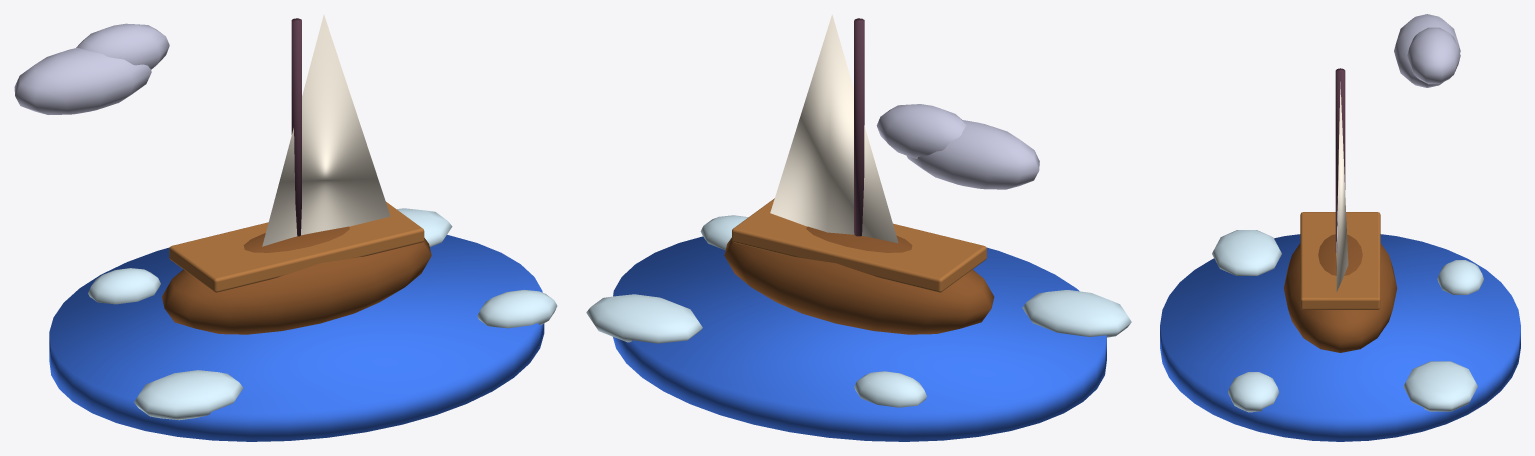
The model's file is boat.glb.
3 renders of one model, left to right at view 1: azimuth 30°, elevation 25°; view 2: azimuth 150°, elevation 25°; view 3: azimuth 270°, elevation 25°, orthographic. The views are drawn at different scales.
Visible parts, largest first — view 1: Cone; view 2: Cone; view 3: Cone.
Part boxes in pixels (left/top/right/bottom): Cone: left=14, top=14, right=557, bottom=441; Cone: left=586, top=14, right=1131, bottom=441; Cone: left=1160, top=14, right=1520, bottom=441.
Bounding box in the file's own units: 6.7 × 4.6 × 5.4.
